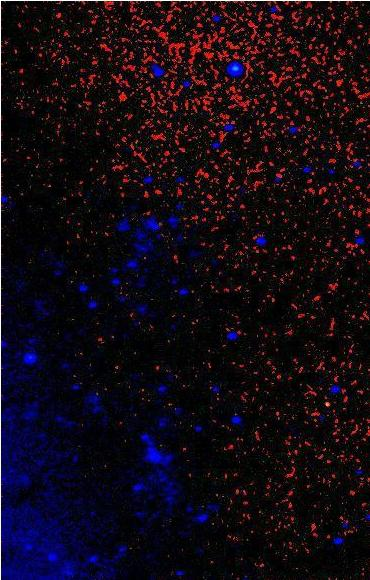star: (312, 391, 342, 421)
